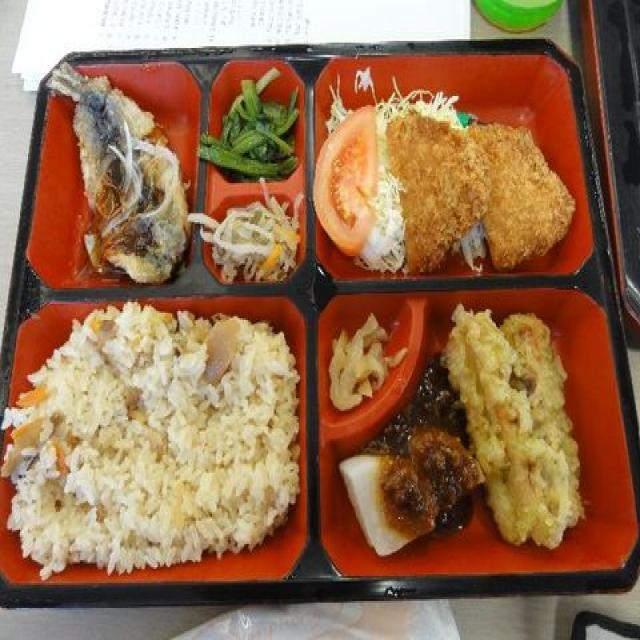炸货点心: (394, 101, 574, 262), (64, 64, 192, 277)
熟制海鲜: (64, 64, 192, 277)
米饭主食: (0, 282, 305, 572)
蔬菜料理: (440, 290, 588, 562)
